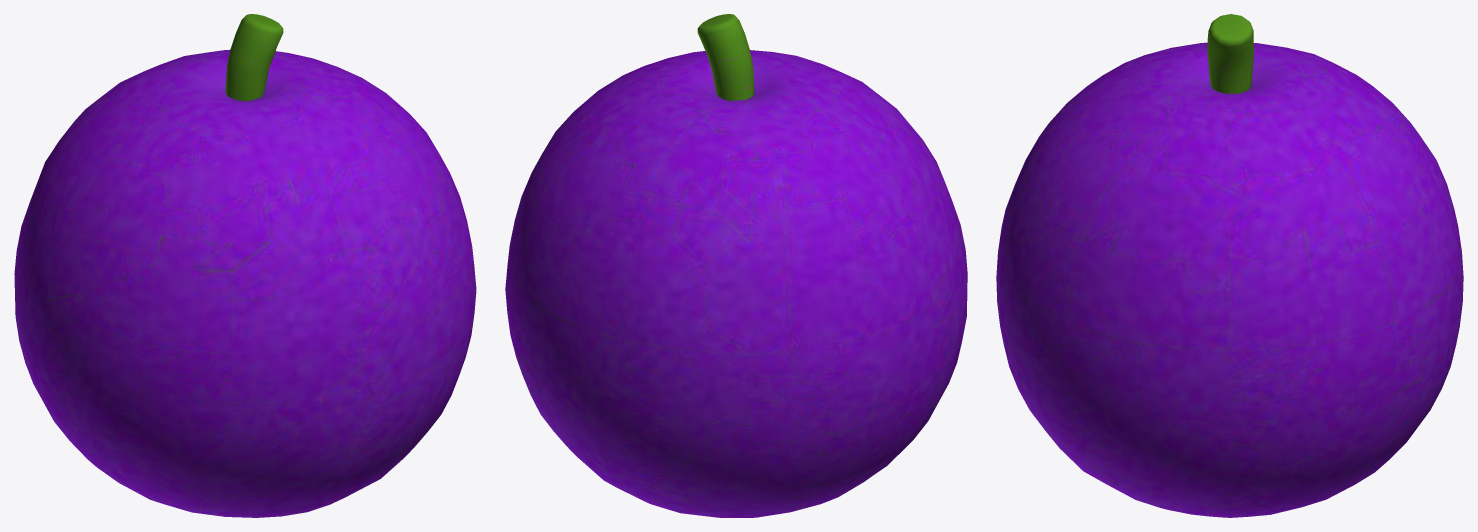
The model's file is f01_grape.glb.
The picture shows the model from 3 angles, left to right: view 1: azimuth 30°, elevation 25°; view 2: azimuth 150°, elevation 25°; view 3: azimuth 270°, elevation 25°; orthographic projection.
Visible parts, largest first — view 1: geometry_0; view 2: geometry_0; view 3: geometry_0.
Boxes of the visible parts, <box> form: geometry_0: <box>14,14,476,517</box>; geometry_0: <box>505,14,967,517</box>; geometry_0: <box>996,14,1463,517</box>.
Size of the model in its own units: 0.8418 by 0.9512 by 0.8403.
1 material, 1 textured.
